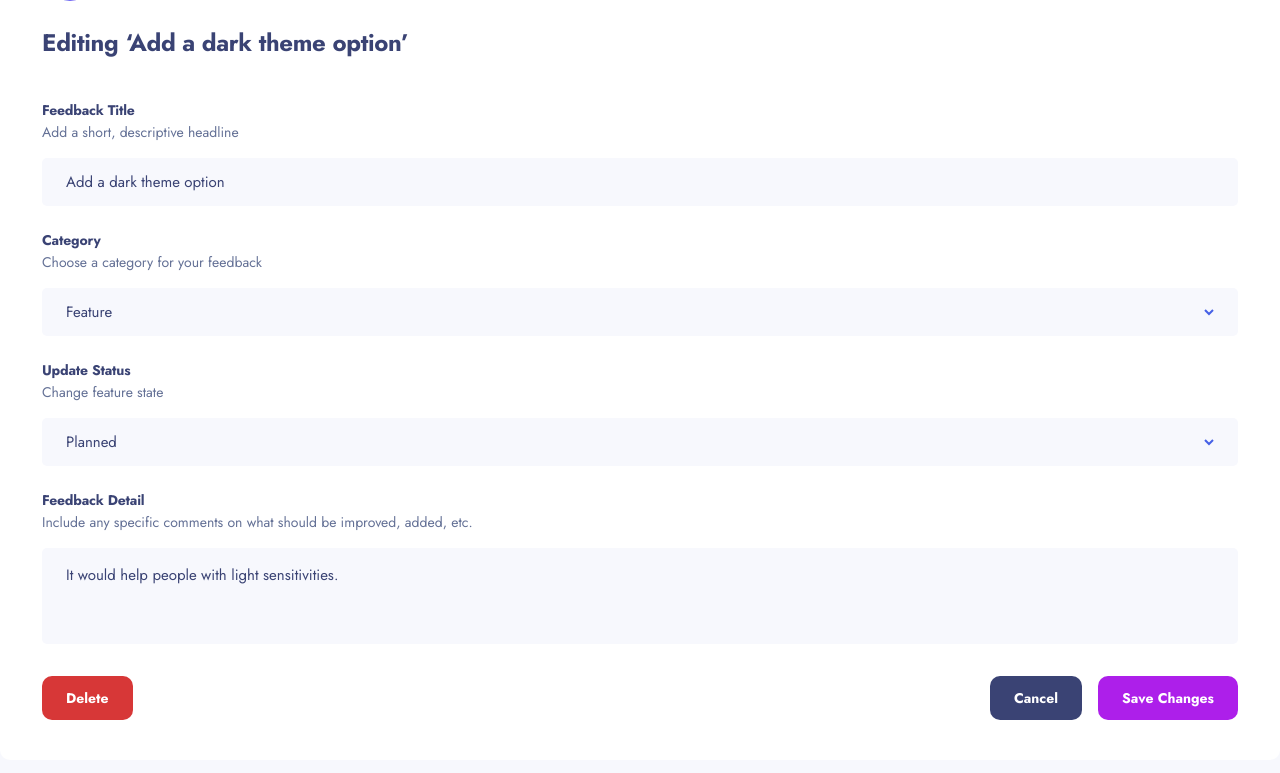
Test: EditFeedbackForm › holds the dialog open and explains when the delete is refused
(page scrolled)
What coordinates should you click on to do the following:
click the button "Delete"
I would click on:
 (87, 698)
Its box is [42,676,133,720].
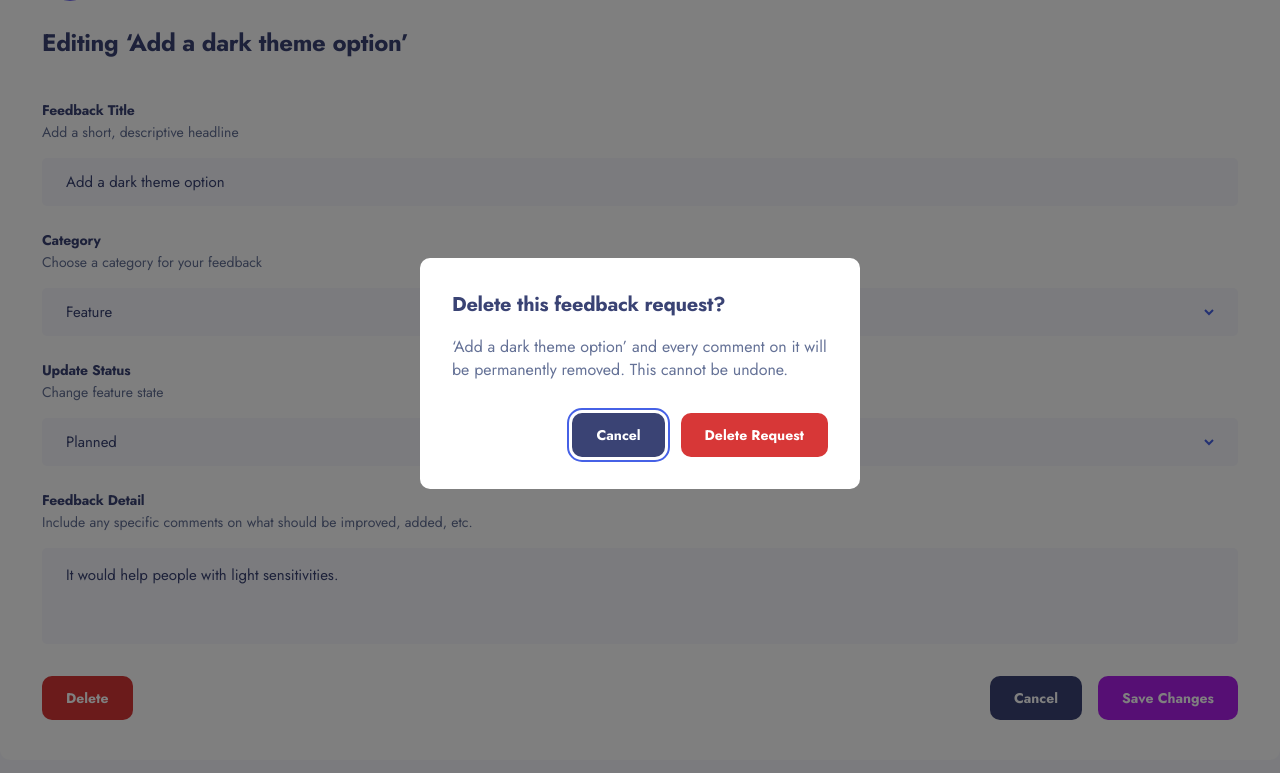
What coordinates should you click on to do the following:
click the button "Delete Request"
I would click on:
 (754, 434)
Its box is [681,412,828,456].
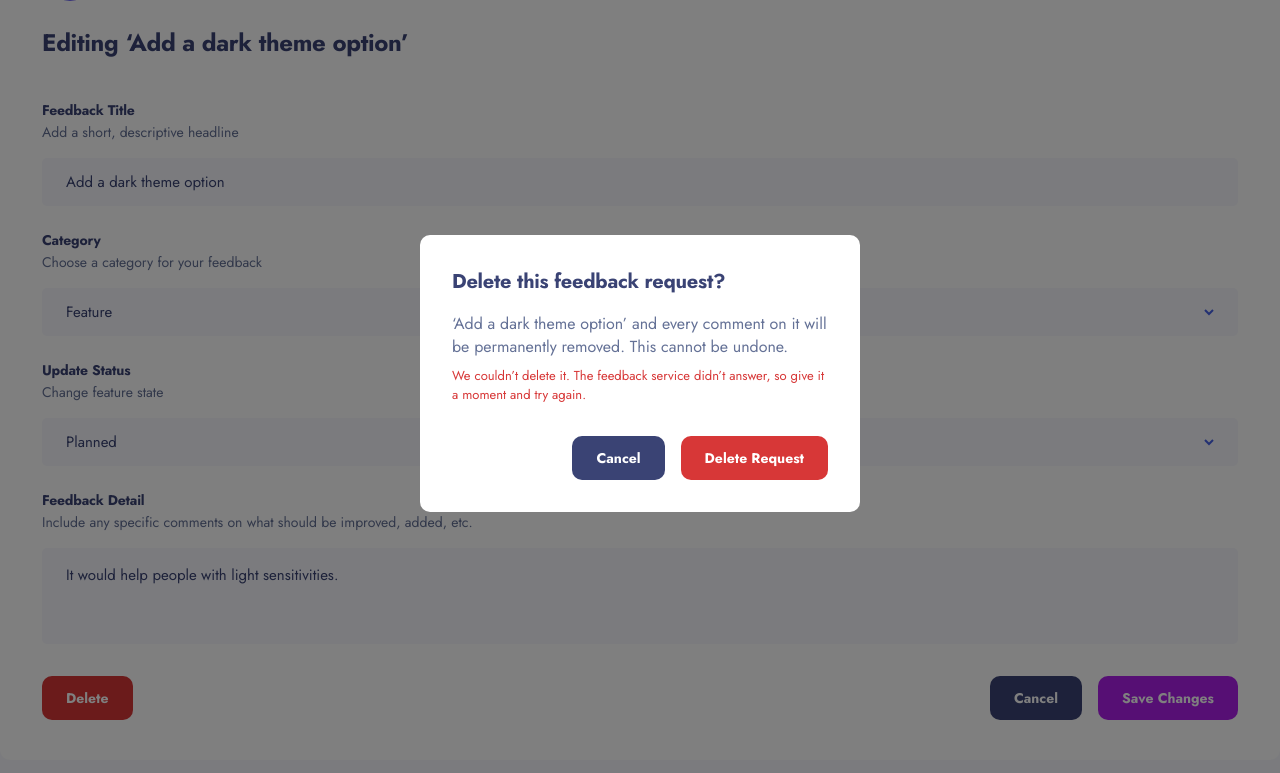
Check: the button "Delete Request" is enabled, box [681,436,828,480]
Check: the message shows "couldn’t delete it", box [452,366,824,404]
